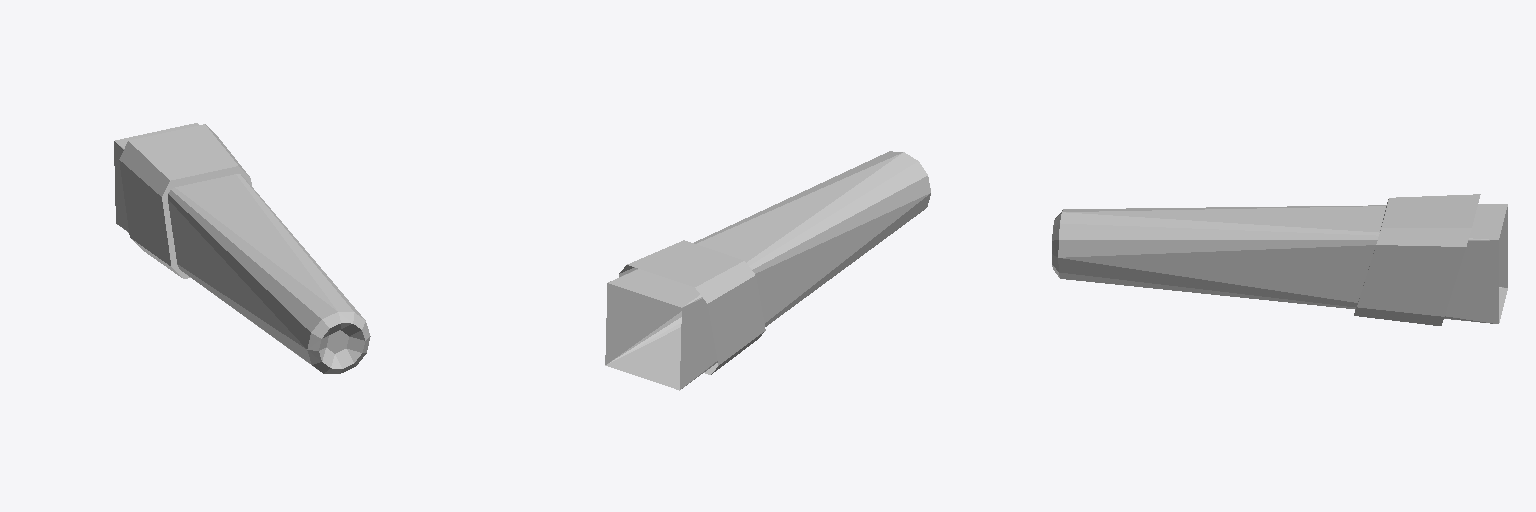
The model's file is barrel0.obj.
The picture shows the model from 3 angles: view 1: azimuth 30°, elevation 25°; view 2: azimuth 150°, elevation 25°; view 3: azimuth 270°, elevation 25°; orthographic projection.
Visible parts, largest first — view 1: Tai_SupportFrigateGun; view 2: Tai_SupportFrigateGun; view 3: Tai_SupportFrigateGun.
Boxes of the visible parts, box(x1,y1,x2,y2) form: Tai_SupportFrigateGun: box(114, 123, 370, 373); Tai_SupportFrigateGun: box(605, 151, 930, 390); Tai_SupportFrigateGun: box(1052, 194, 1507, 325).
Size of the model in its own units: 3.71 by 3.2 by 13.11.